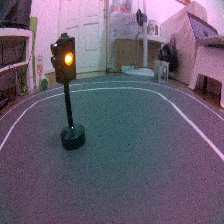amber: (49, 32, 90, 152)
